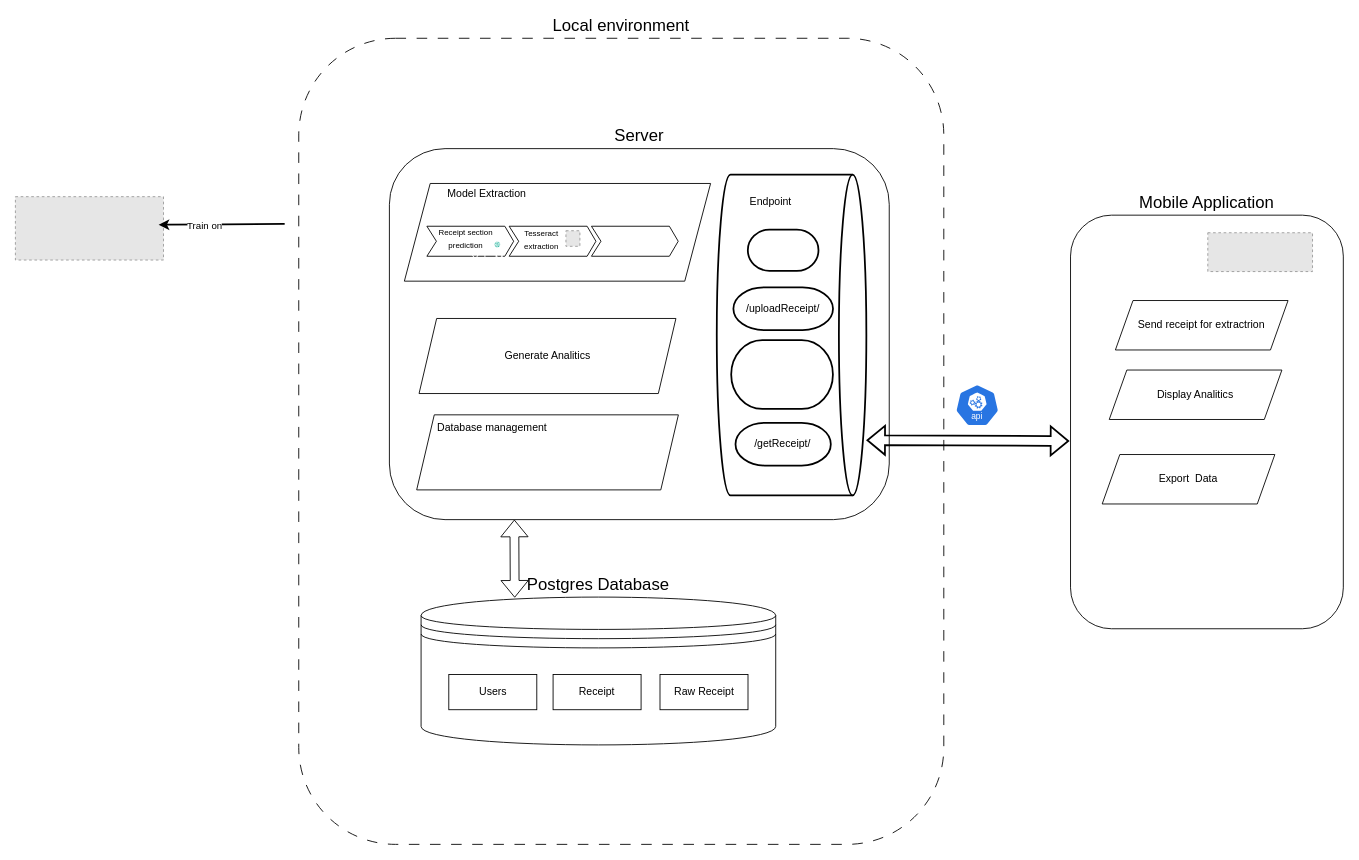
This 1359x860 diagram has some shape labels left out. Grey dashed boxes stand in for pictures. The shapes that lost their labels are listed below. From the top down, each one's centre as x and y in pixels, then its label:
point 634,240: Classification & formating
point 783,249: /users/
point 781,374: /uplaod Receip Data/
